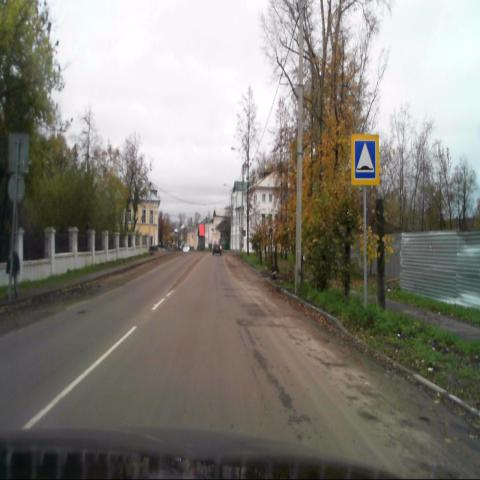5_20: (351, 135, 378, 185)
